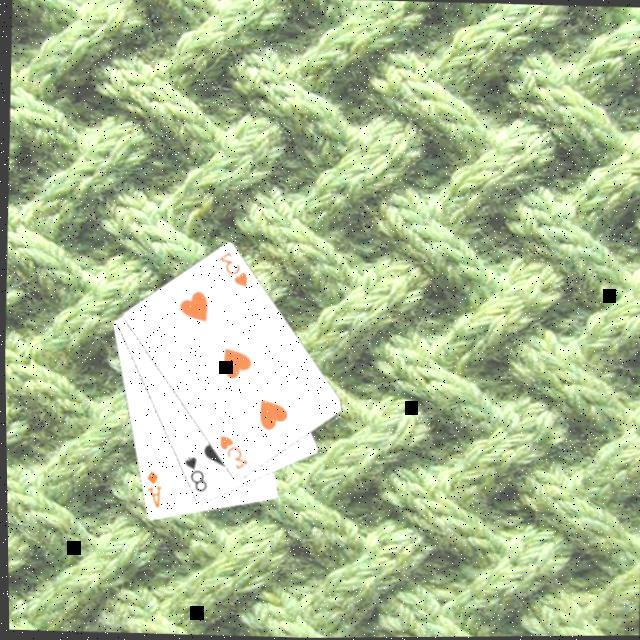3H: (211, 248, 248, 292), (212, 432, 248, 473)
8S: (176, 454, 207, 496)
AD: (138, 468, 162, 511)
